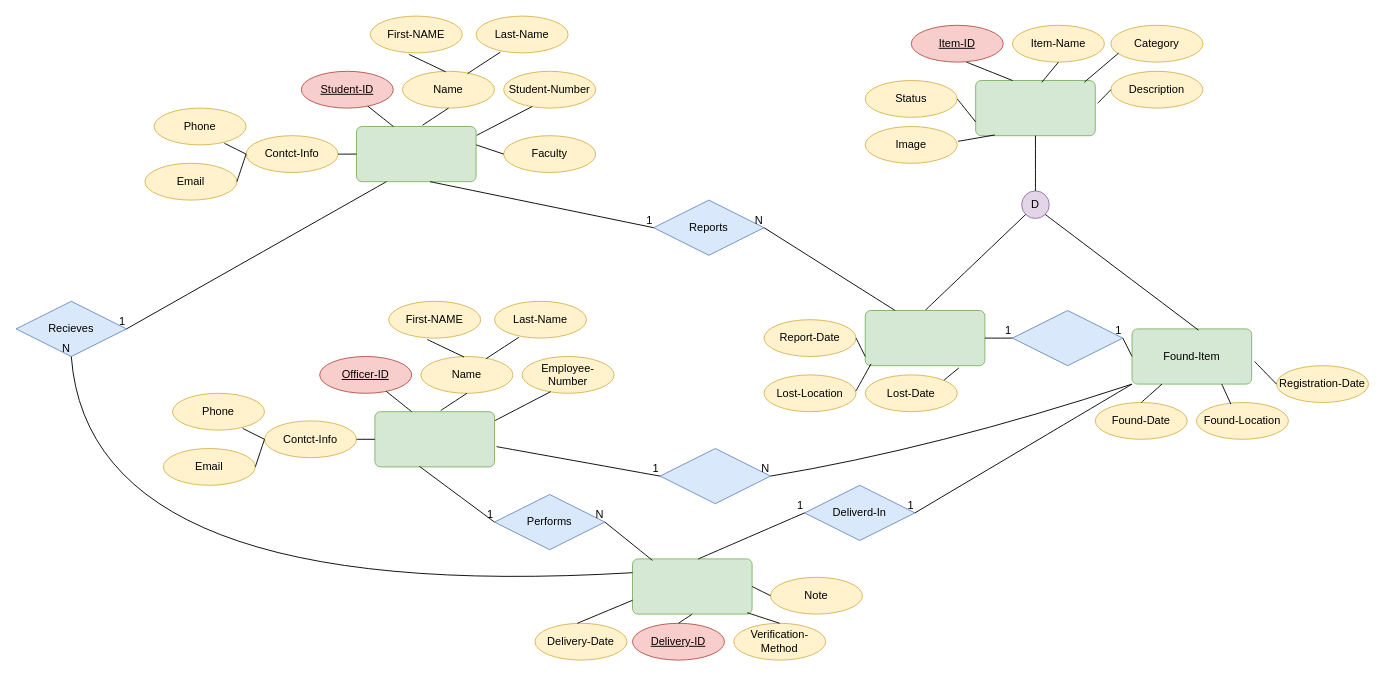
The diagram is 1385 pixels wide and 676 high, and some of its shapes have lost their labels. The shapes that lost their labels are listed below. From the top down, each one's centre as x and y in pixels, then its label:
At point 1035,108: "Item".
At point 416,154: "Student".
At point 924,338: "Lost-Item".
At point 1067,338: "Matches".
At point 434,439: "Security-Officer".
At point 714,476: "Registers".
At point 692,586: "Delivery".
